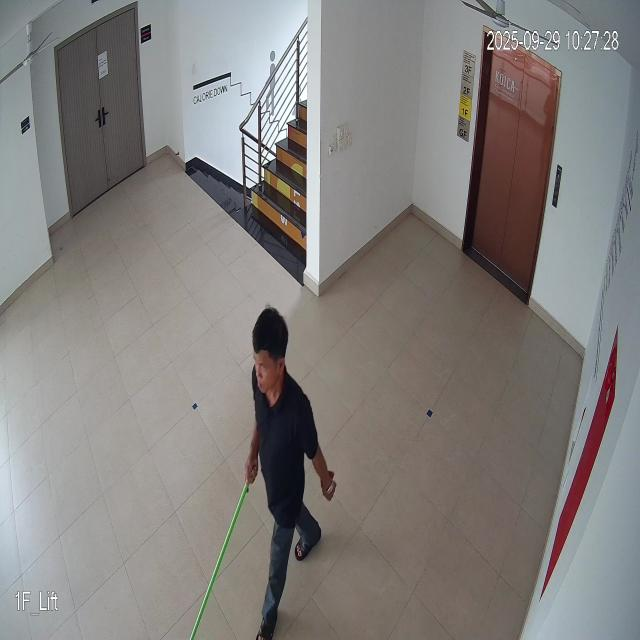face: (252, 312, 290, 398)
